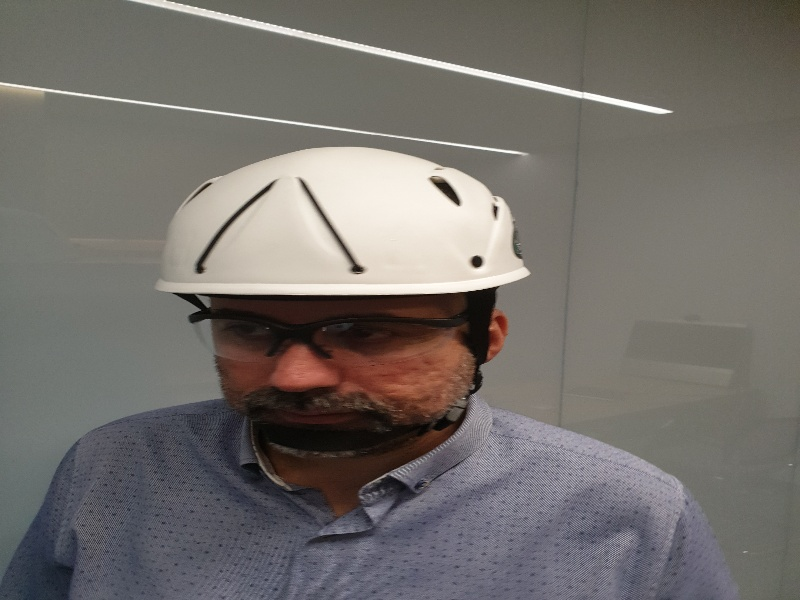Baret: (158, 146, 532, 296)
Gozluk: (187, 308, 492, 359)
